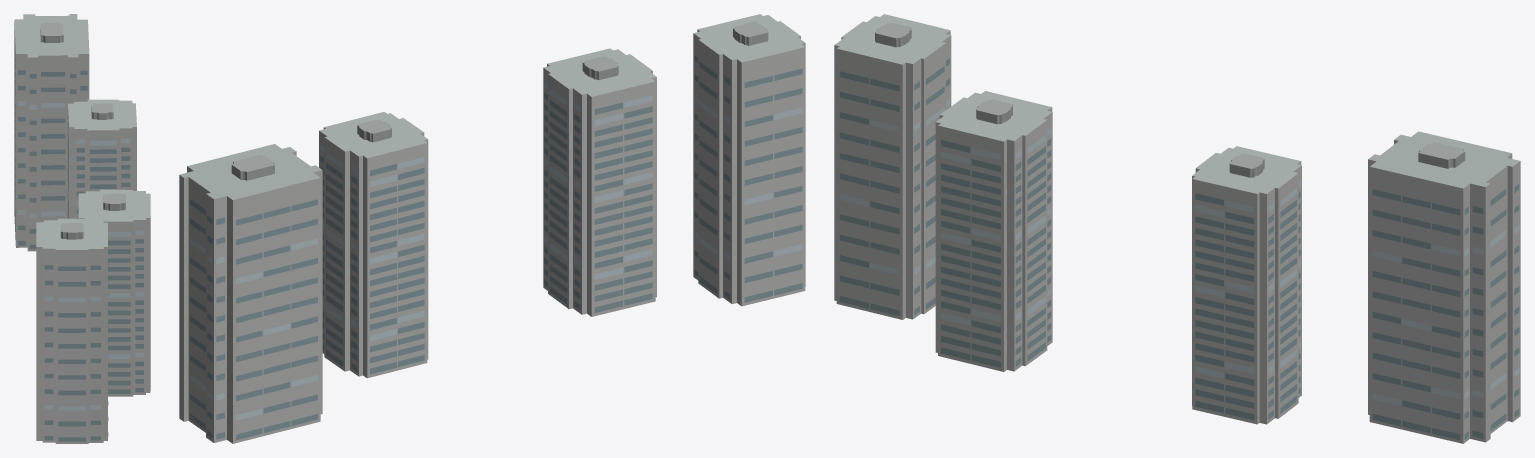
Rendered from apt-a13188406.glb.
3 renders of one model, left to right at view 1: azimuth 30°, elevation 25°; view 2: azimuth 150°, elevation 25°; view 3: azimuth 270°, elevation 25°, orthographic. The views are drawn at different scales.
Visible parts, largest first — view 1: apt-a13188406; view 2: apt-a13188406; view 3: apt-a13188406.
Boxes of the visible parts, x1,y1,x2,y2 form: apt-a13188406: [14, 14, 150, 443]; apt-a13188406: [179, 14, 805, 443]; apt-a13188406: [834, 14, 1520, 443].
Size of the model in its own units: 99.15 by 70 by 165.
